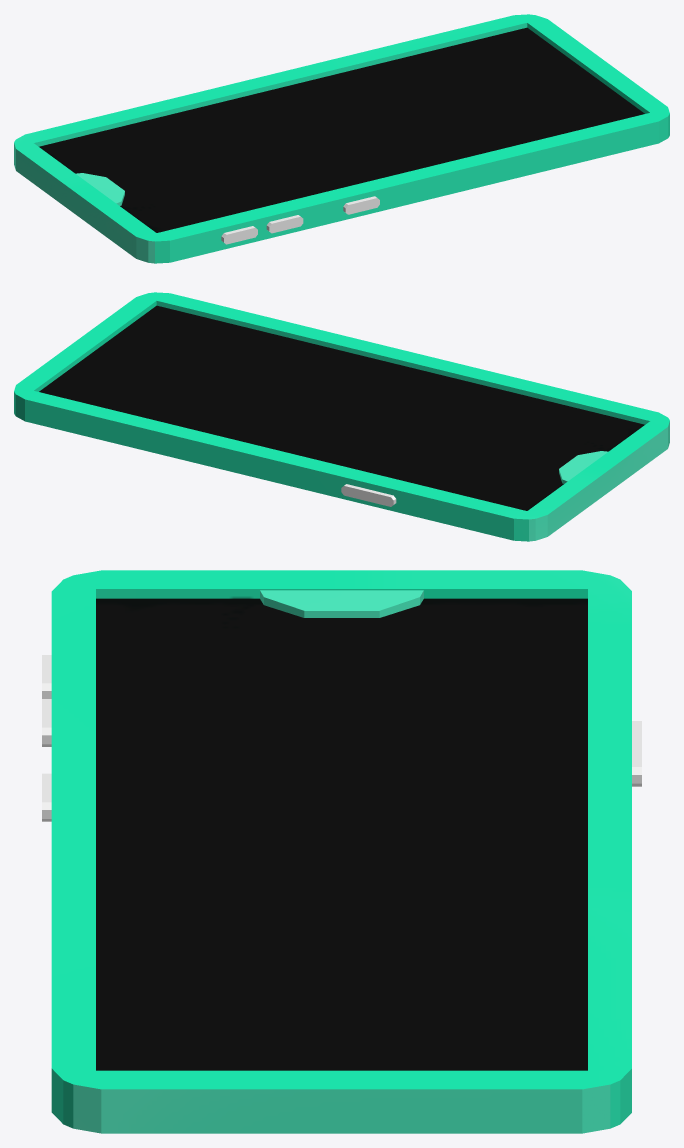
File: Phone.glb
3 views of the same model, one above another, from view 1: azimuth 30°, elevation 25°; view 2: azimuth 150°, elevation 25°; view 3: azimuth 270°, elevation 25° (orthographic). The views are drawn at different scales.
Parts seen in each view (by area): view 1: Cube, Cube.001; view 2: Cube, Cube.001; view 3: Cube, Cube.001.
Part boxes in pixels (<box>): Cube: <box>14,14,669,263</box>; Cube.001: <box>221,196,379,244</box>; Cube: <box>14,292,669,541</box>; Cube.001: <box>341,484,396,506</box>; Cube: <box>51,570,631,1133</box>; Cube.001: <box>42,655,641,821</box>.
Size of the model in its own units: 2 by 0.0794 by 0.9776.
Materials: 2 (2 with a texture image).
